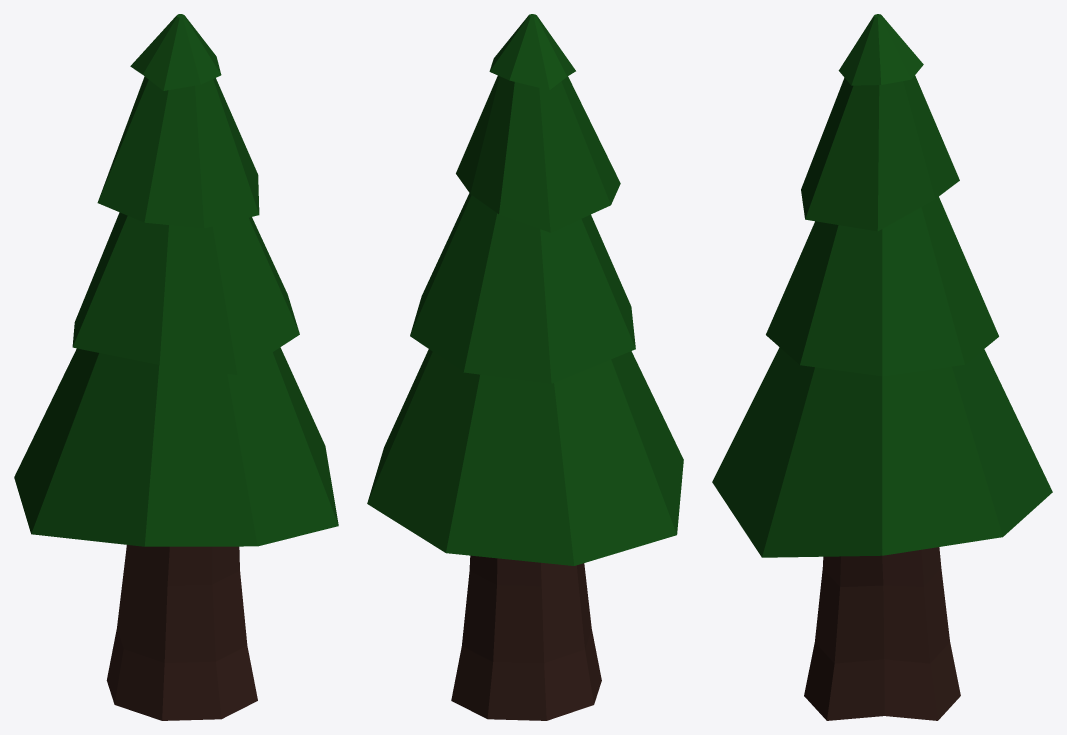
File: Arvore.fbx
3 views of the same model, side by side, from view 1: azimuth 30°, elevation 25°; view 2: azimuth 150°, elevation 25°; view 3: azimuth 270°, elevation 25° (orthographic).
Parts seen in each view (by area): view 1: Arvore; view 2: Arvore; view 3: Arvore.
Boxes of the visible parts, x1,y1,x2,y2 form: Arvore: (14, 14, 338, 720); Arvore: (367, 14, 683, 720); Arvore: (712, 14, 1052, 720).
Bounding box in the file's own units: 313 × 691 × 314.
